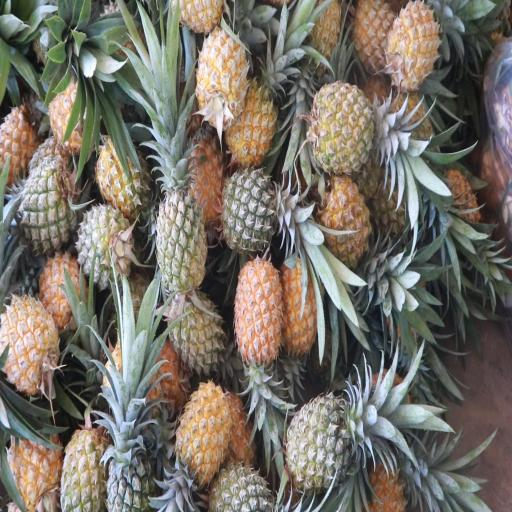------------------------------: (154, 165, 206, 292), (313, 83, 386, 171), (168, 292, 225, 375), (94, 135, 152, 213), (38, 253, 92, 334)
Pineapple - v8 v1: (173, 383, 233, 486), (1, 288, 57, 390), (233, 258, 283, 368), (280, 251, 326, 363), (223, 71, 276, 166), (319, 172, 373, 264), (3, 430, 61, 512), (199, 32, 248, 126), (391, 3, 444, 84), (58, 429, 108, 512), (184, 127, 226, 225)
